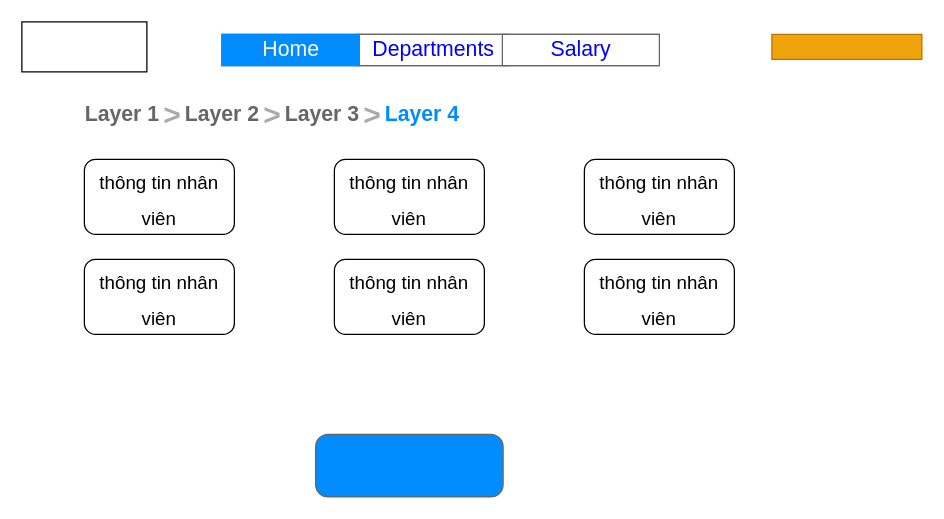
The diagram is 944 pixels wide and 519 high, and some of its shapes have lost their labels. The shapes that lost their labels are listed below. From the top down, each one's centre as x and y in pixels, then its label:
At point 84,46: "Logo".
At point 846,46: "search".
At point 408,465: "next".
